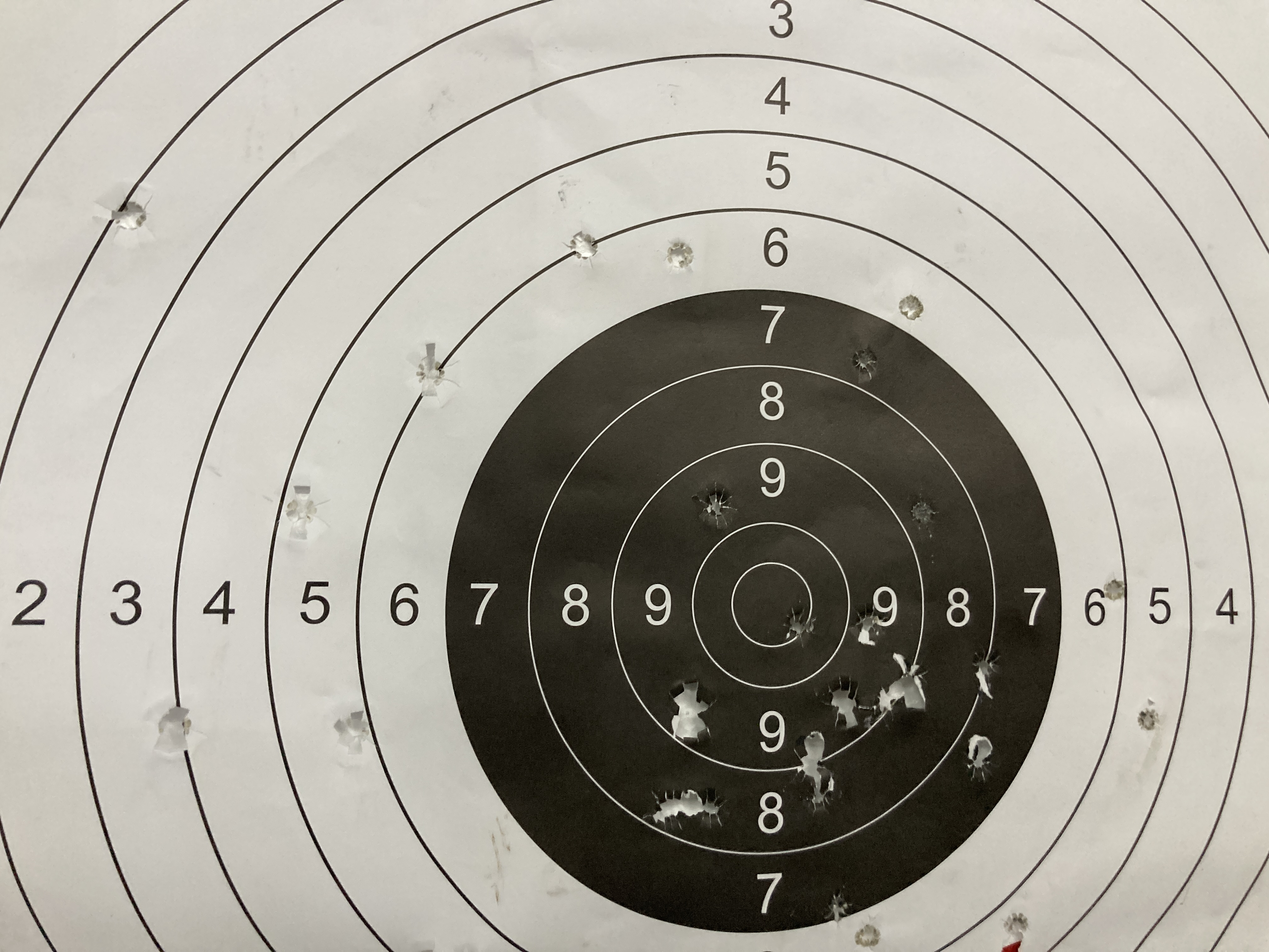hole: (872, 653, 956, 716), (267, 474, 333, 542), (316, 704, 385, 769), (407, 325, 460, 405), (149, 704, 211, 767), (663, 656, 725, 714), (691, 784, 751, 840), (98, 195, 165, 244), (796, 778, 863, 825), (820, 673, 871, 734), (680, 471, 731, 527), (947, 731, 1011, 774), (638, 785, 691, 836), (838, 336, 887, 387), (658, 711, 727, 745), (554, 222, 605, 267), (782, 714, 827, 764), (840, 607, 887, 653), (832, 920, 894, 952), (887, 285, 934, 327), (967, 653, 1007, 700), (903, 489, 943, 533), (658, 236, 694, 284), (771, 594, 805, 644), (1105, 574, 1136, 618), (1132, 704, 1163, 744), (1000, 900, 1016, 951), (823, 893, 845, 916)
